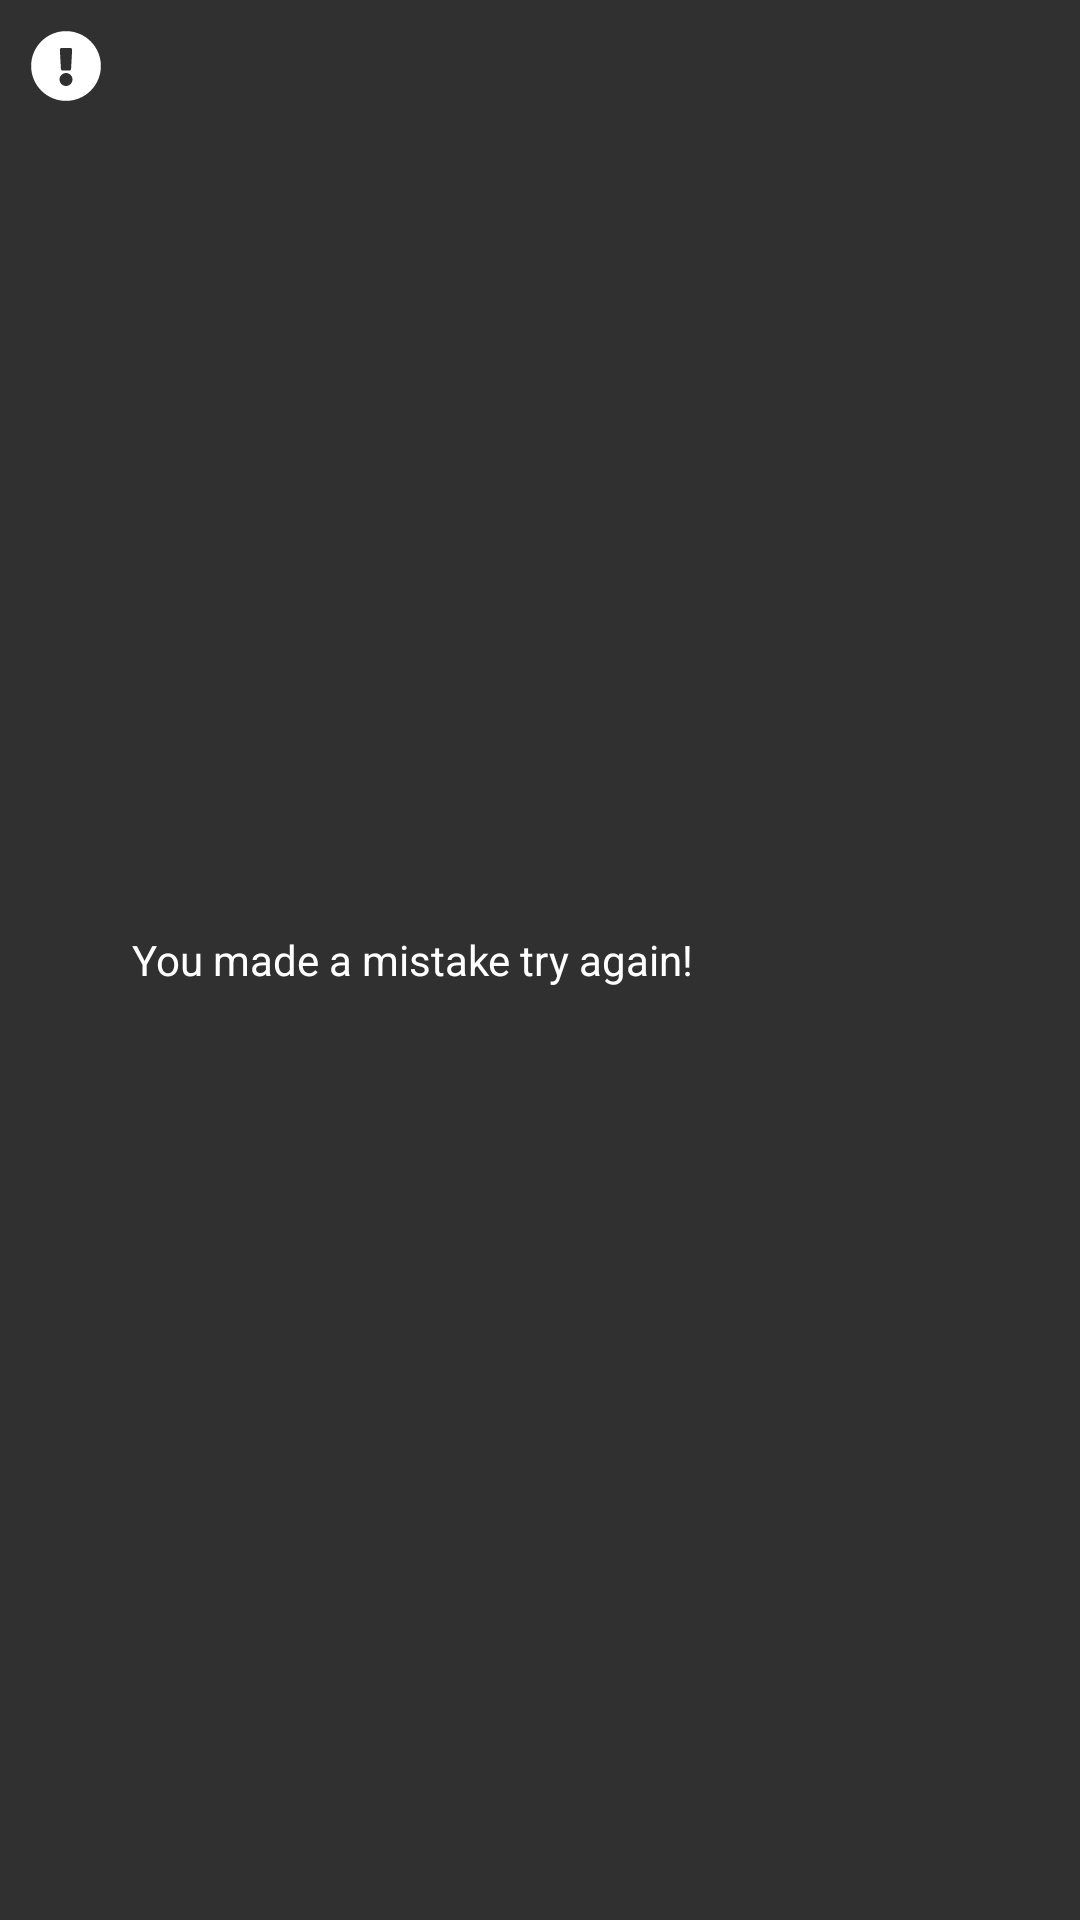

Named icons in this screenshot (1080 × 1920) and their centers, (x=x, y=y):
exclamation circle: (x=66, y=66)
